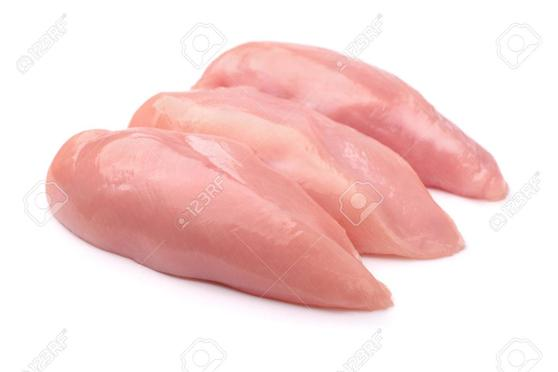chicken_fillet: (41, 128, 396, 318)
